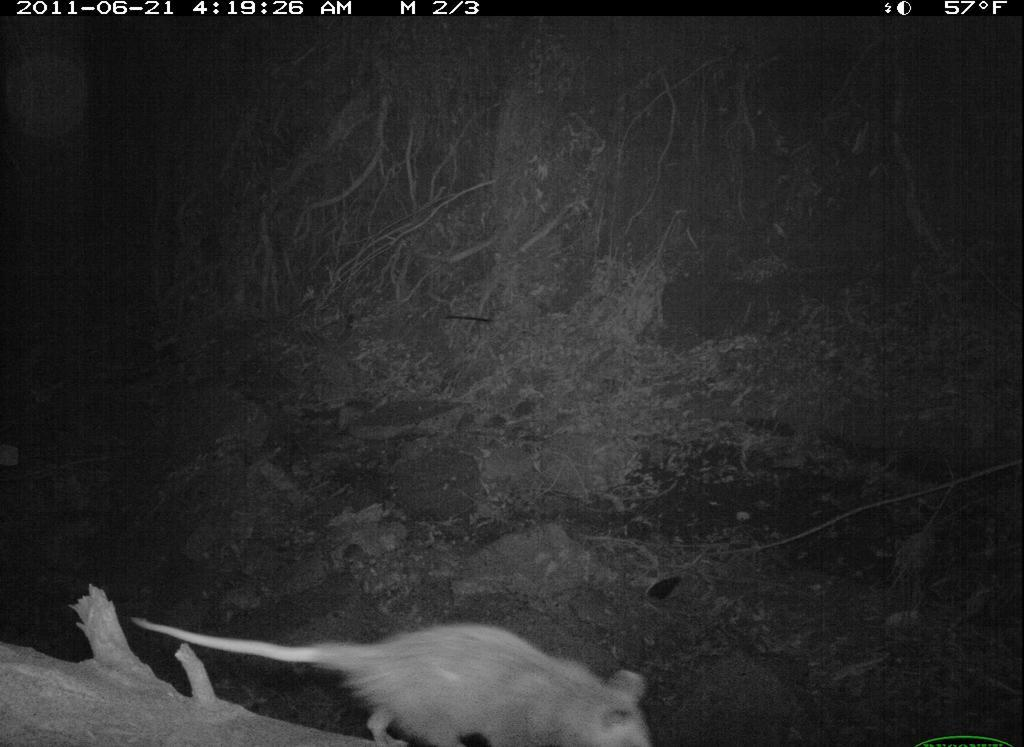opossum: (125, 578, 662, 744)
